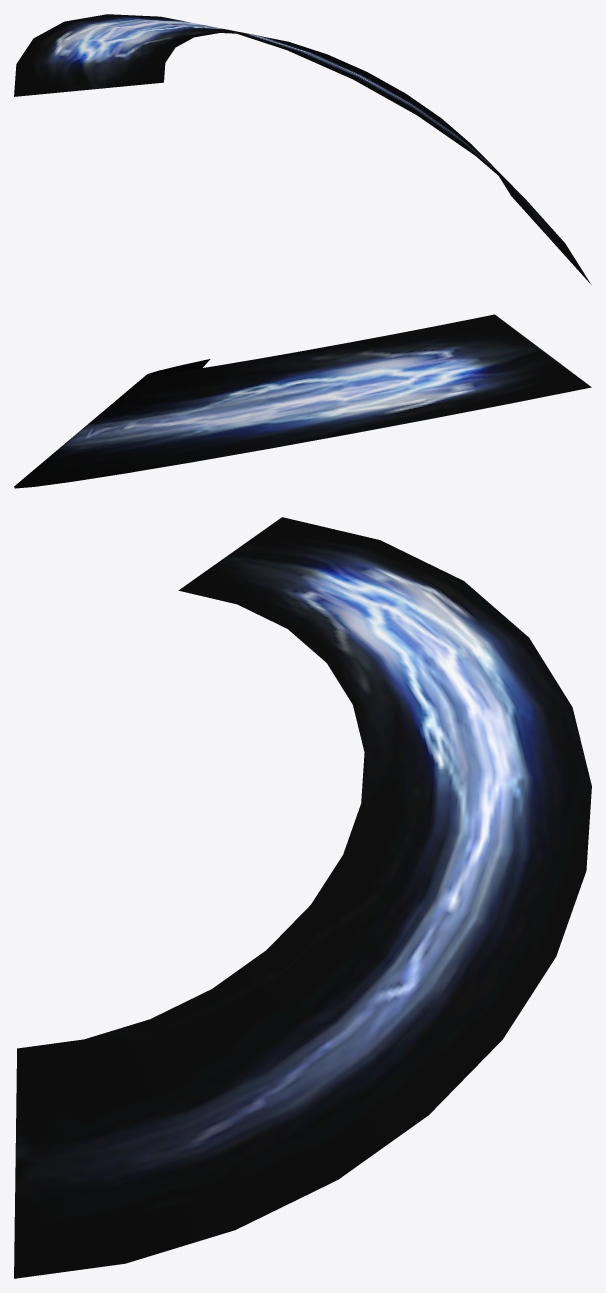
The model's file is xiepi.FBX.
3 renders of one model, top to bottom at view 1: azimuth 30°, elevation 25°; view 2: azimuth 150°, elevation 25°; view 3: azimuth 270°, elevation 25°, orthographic. The views are drawn at different scales.
Visible parts, largest first — view 1: Tube01; view 2: Tube01; view 3: Tube01.
Boxes of the visible parts, x1,y1,x2,y2 form: Tube01: (14,14,591,284); Tube01: (14,314,591,488); Tube01: (14,517,591,1278).
Bounding box in the file's own units: 5.51 × 3.51 × 2.7.
1 material, 1 textured.
